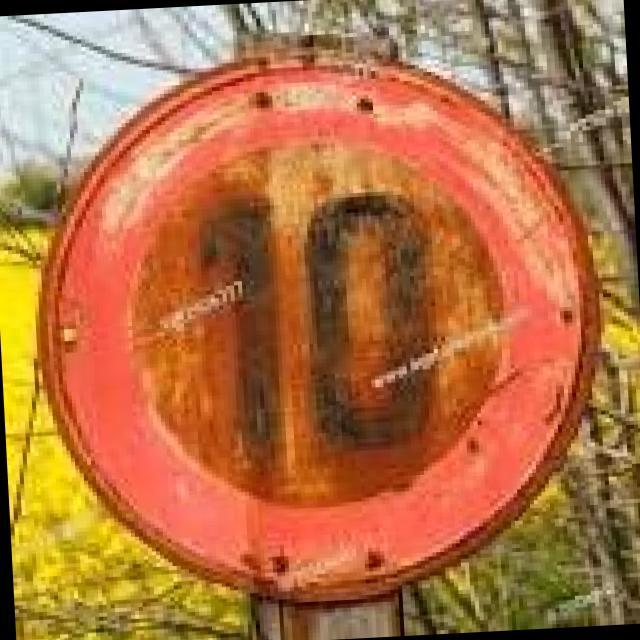obstructed_road_sign: (43, 30, 608, 606)
